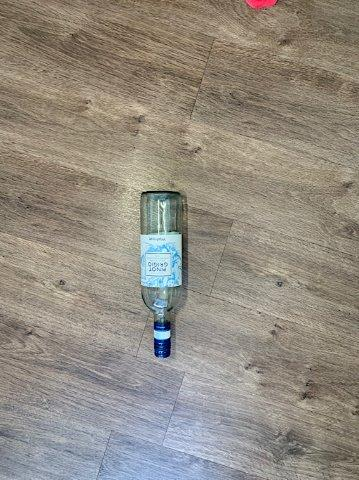botolkaca: (141, 191, 182, 358)
